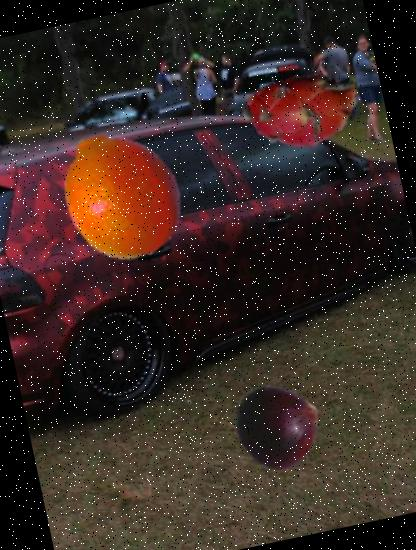Chestnut: (228, 375, 332, 480)
Pitahaya: (233, 41, 372, 180)
Tangelo: (40, 115, 198, 273)
